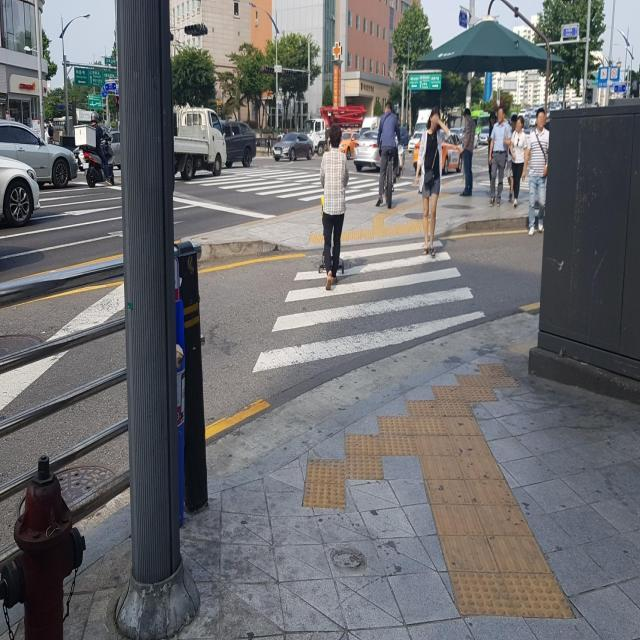횡단보도: (251, 238, 488, 378), (170, 158, 422, 206)
